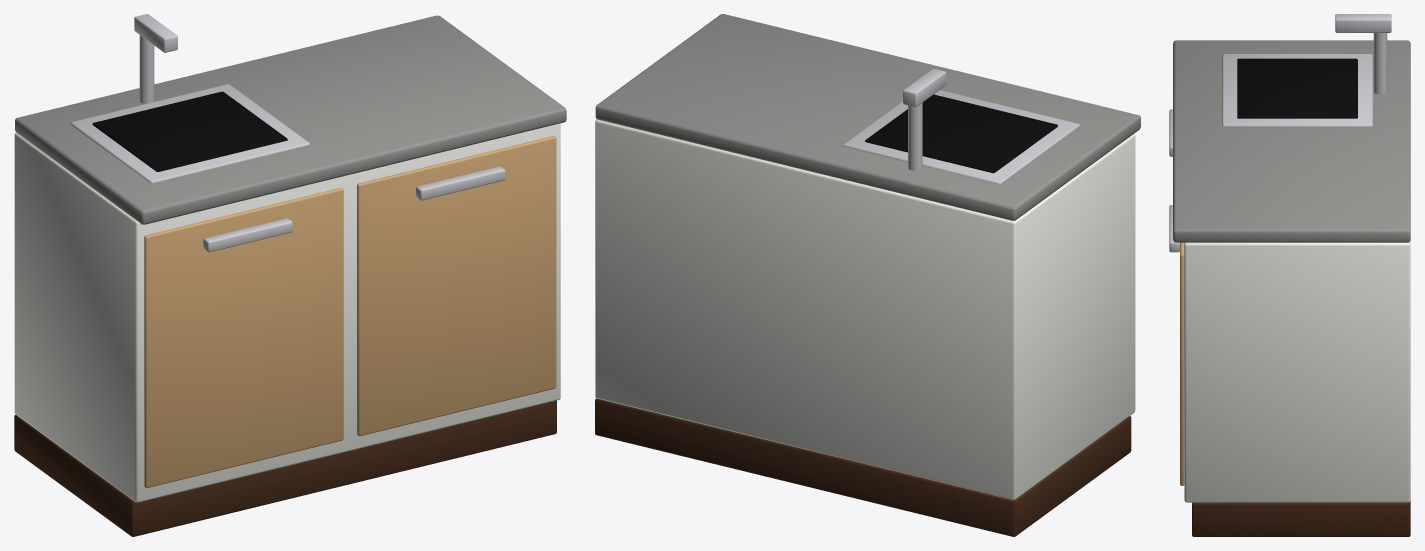
The model's file is Kitchen_Sink_120.glb.
3 views of the same model, side by side, from view 1: azimuth 30°, elevation 25°; view 2: azimuth 150°, elevation 25°; view 3: azimuth 270°, elevation 25° (orthographic). The views are drawn at different scales.
Visible parts, largest first — view 1: Kitchen_Sink_120; view 2: Kitchen_Sink_120; view 3: Kitchen_Sink_120.
Boxes of the visible parts, <box> form: Kitchen_Sink_120: <box>14,14,566,536</box>; Kitchen_Sink_120: <box>595,14,1140,536</box>; Kitchen_Sink_120: <box>1169,14,1410,536</box>.
Size of the model in its own units: 1.2 by 1.12 by 0.64.
